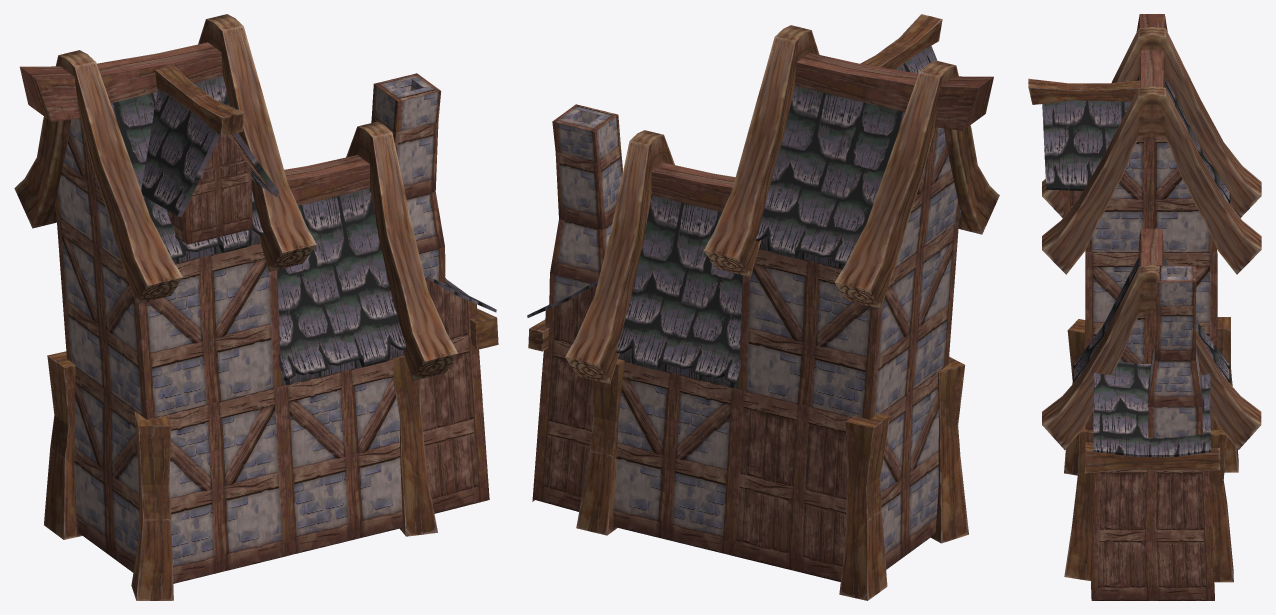
Rendered from house04.fbx.
3 views of the same model, side by side, from view 1: azimuth 30°, elevation 25°; view 2: azimuth 150°, elevation 25°; view 3: azimuth 270°, elevation 25° (orthographic). The views are drawn at different scales.
Visible parts, largest first — view 1: casa04; view 2: casa04; view 3: casa04.
Part boxes in pixels (bbox=[...]): casa04: bbox=[14, 14, 498, 600]; casa04: bbox=[527, 14, 999, 600]; casa04: bbox=[1028, 14, 1261, 600].
Bounding box in the file's own units: 415 × 471 × 234.
